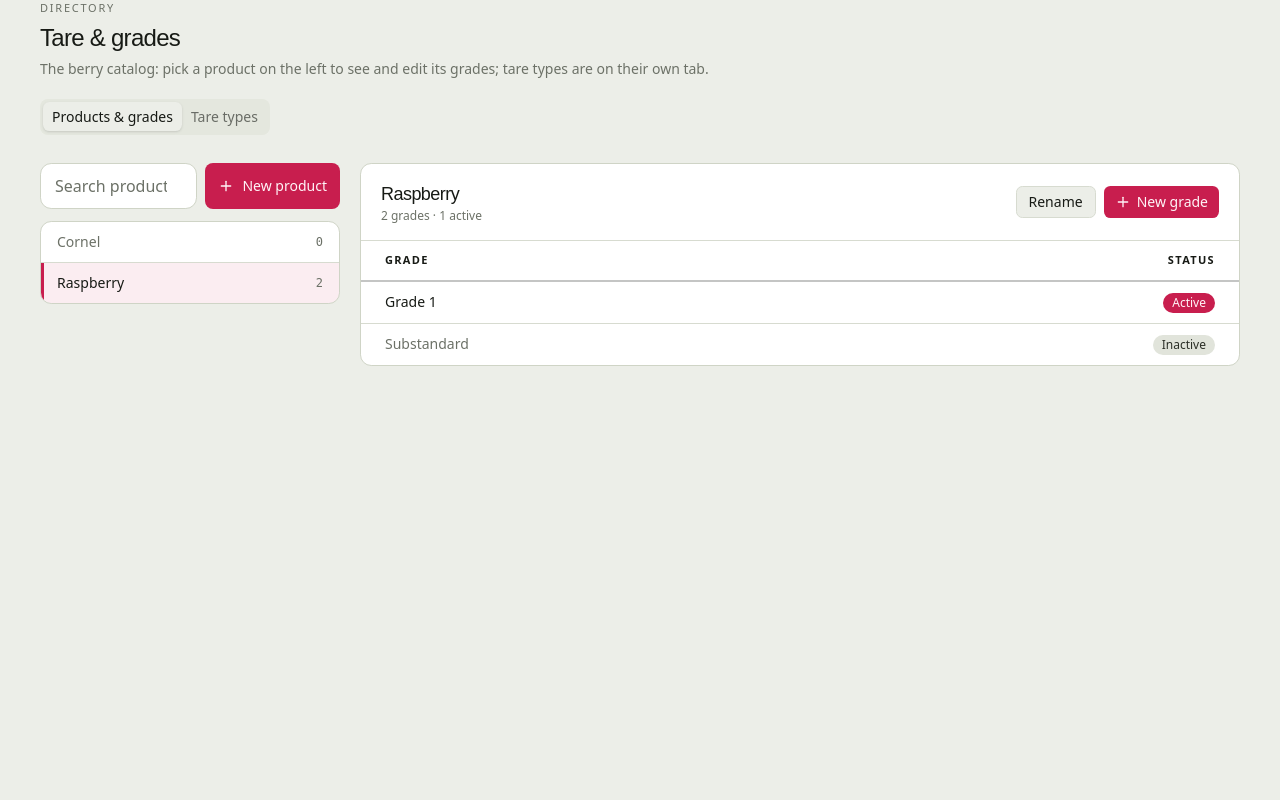
Test: CatalogPage › opens a grade row for editing with its current values
Click the text "Grade 1" at (411, 302), box [385,292,437,311]
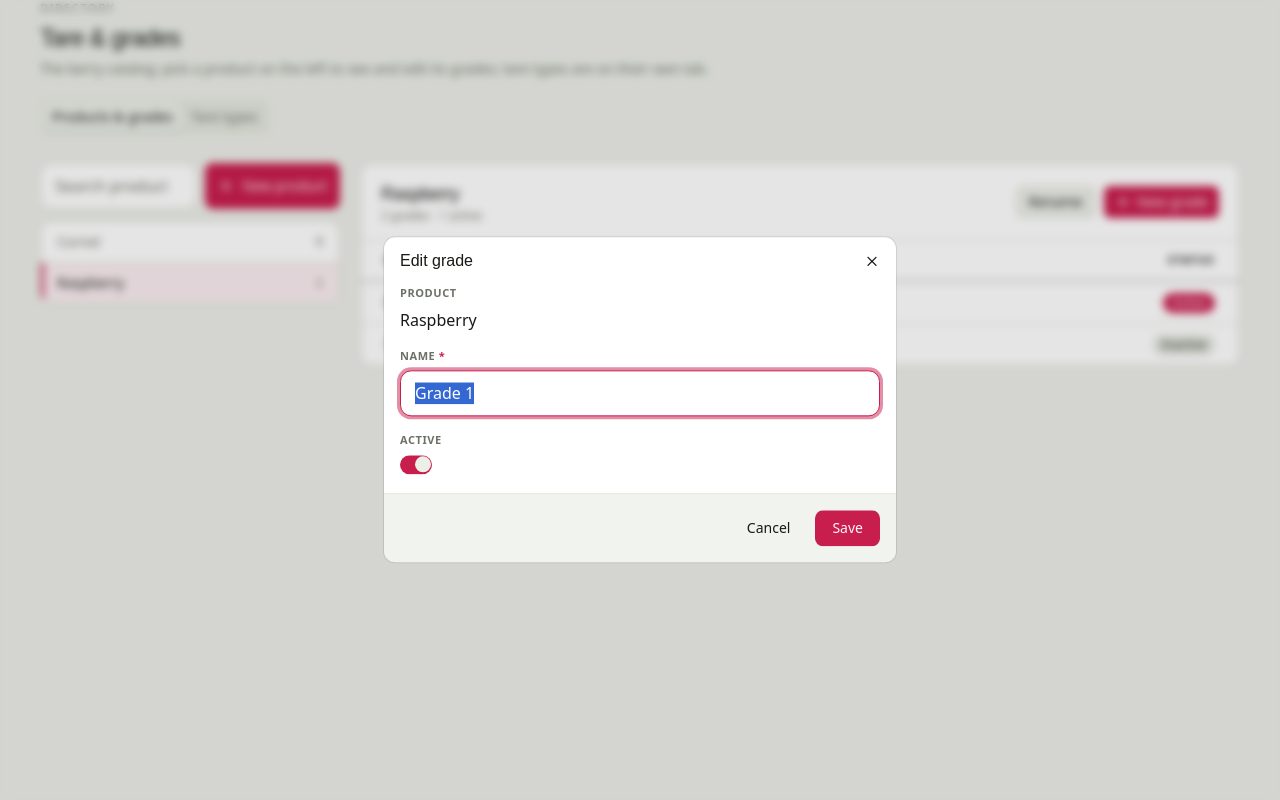
expect the field labelled "Name" holds "Grade 1": met, box [400,371,880,417]
